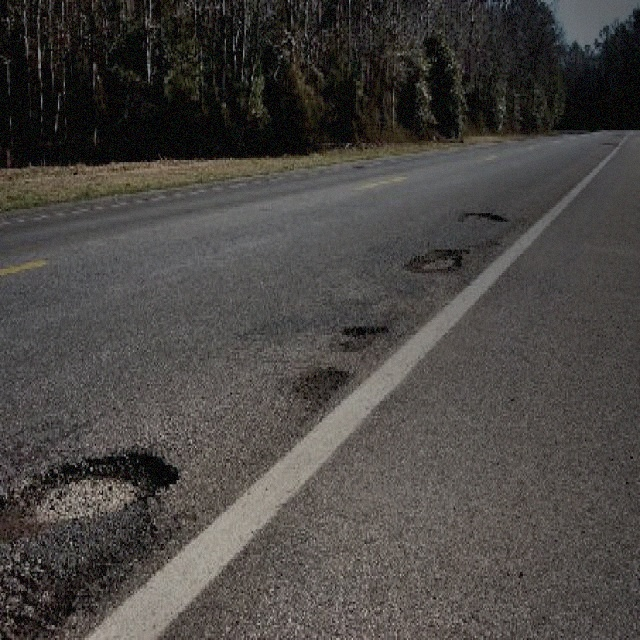pothole: (21, 448, 178, 527), (288, 362, 349, 408), (401, 245, 466, 278), (336, 320, 390, 350), (455, 207, 506, 226)
